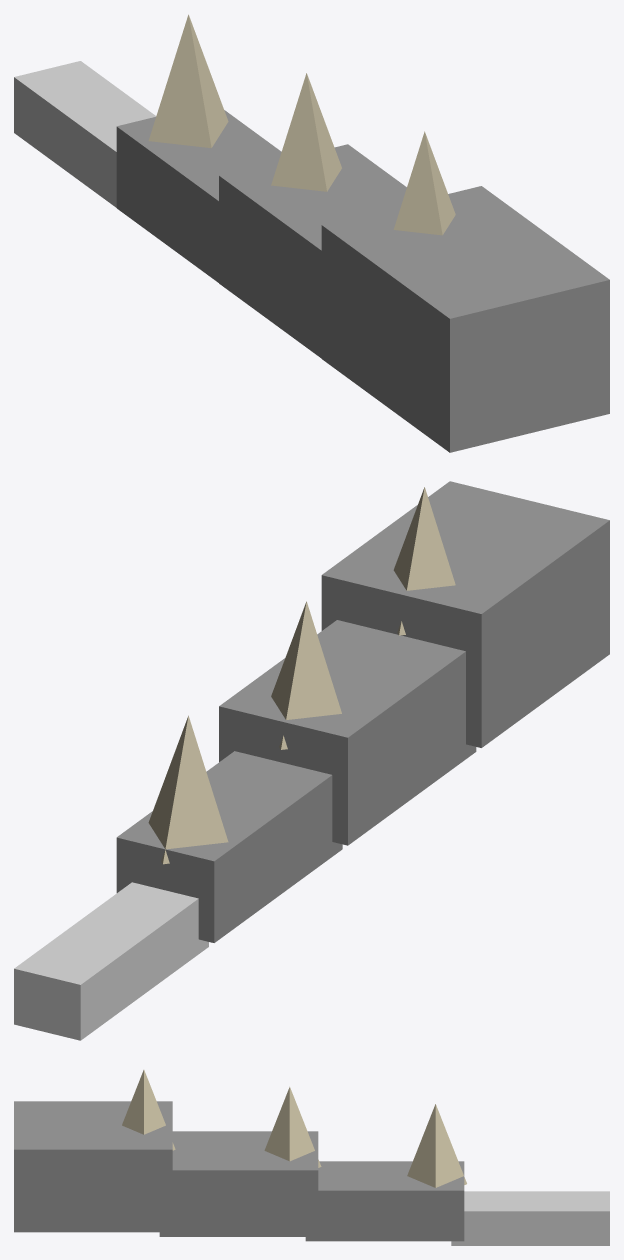
File: tail_spiked.glb
3 views of the same model, one above another, from view 1: azimuth 30°, elevation 25°; view 2: azimuth 150°, elevation 25°; view 3: azimuth 270°, elevation 25° (orthographic). The views are drawn at different scales.
Visible parts, largest first — view 1: tail_spiked; view 2: tail_spiked; view 3: tail_spiked.
Boxes of the visible parts, x1=… form: tail_spiked: x1=14, y1=14, x2=609, y2=452; tail_spiked: x1=14, y1=481, x2=609, y2=1040; tail_spiked: x1=14, y1=1070, x2=609, y2=1245.
Bounding box in the file's own units: 0.18 × 0.29 × 0.94.
